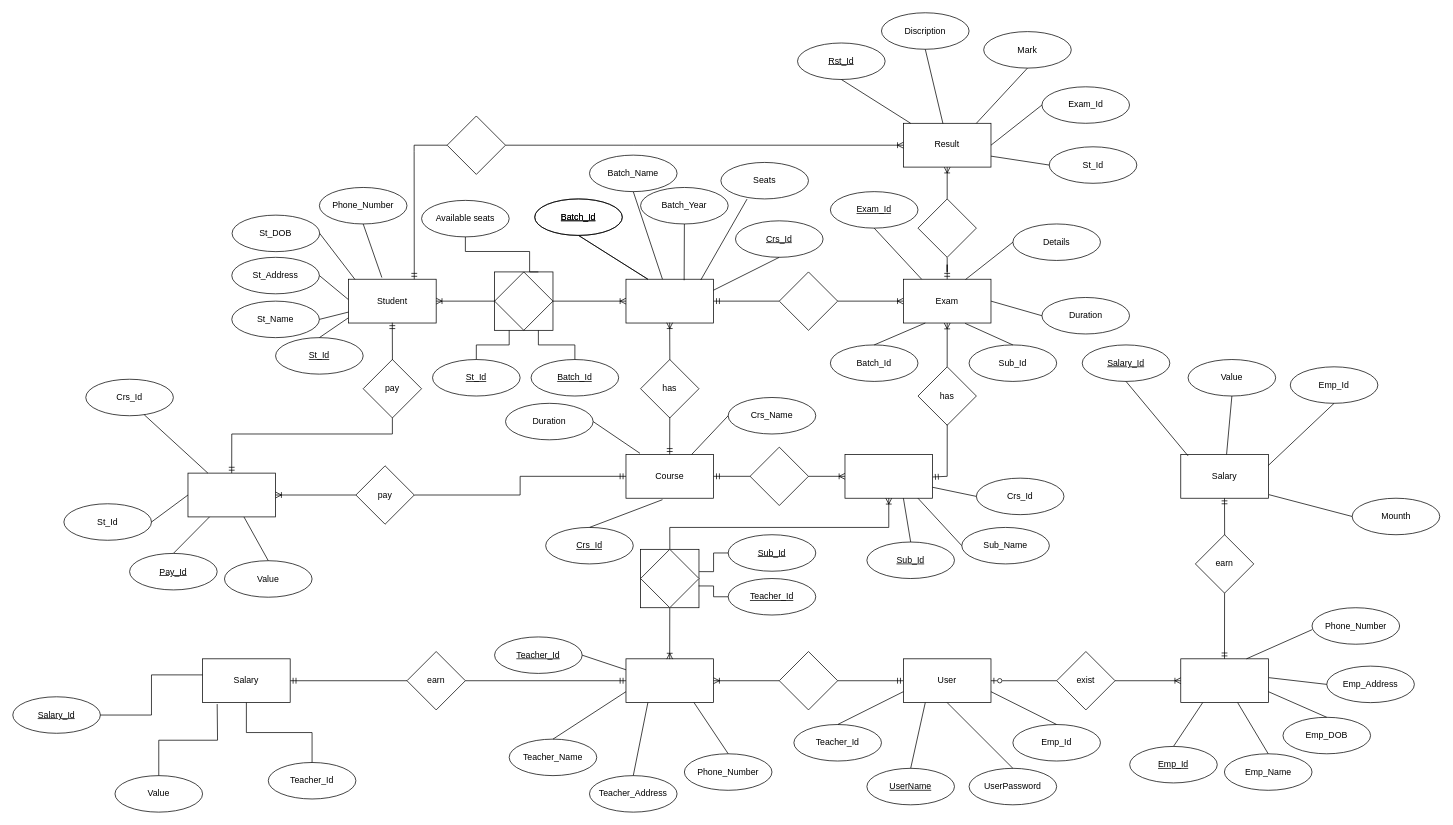
The diagram is 1453 pixels wide and 825 high, and some of its shapes have lost their labels. Here are the shapes that lost their labels. From the top down, the centre of each, then its label:
At [476,144]: "release".
At [946,227]: "provide".
At [523,300]: "Student Batch".
At [669,300]: "Batch".
At [808,300]: "held".
At [231,494]: "Payment".
At [778,476]: "contains".
At [888,476]: "Subject".
At [669,578]: "Teacher Subject".
At [669,680]: "Teacher".
At [808,680]: "belong".
At [1224,680]: "Employee".
